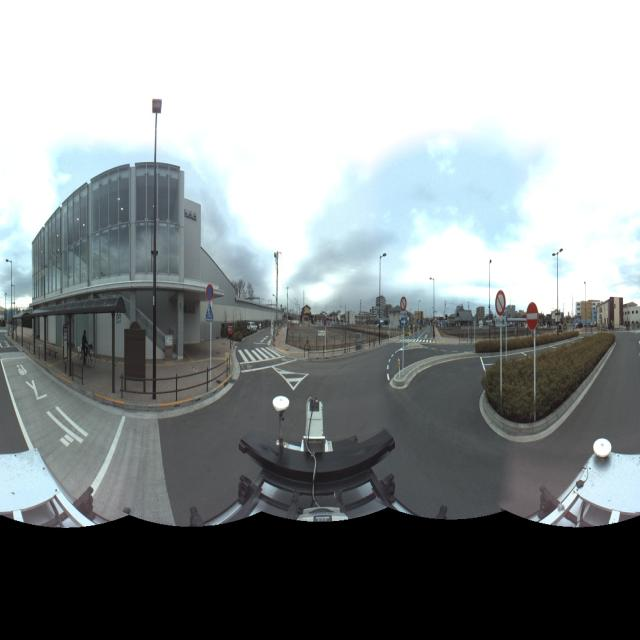b_1: (29, 163, 191, 370), (570, 293, 604, 337), (447, 298, 477, 338), (595, 293, 622, 334), (372, 287, 390, 334), (623, 300, 640, 336), (298, 299, 315, 331), (390, 300, 408, 330), (412, 306, 427, 334)
